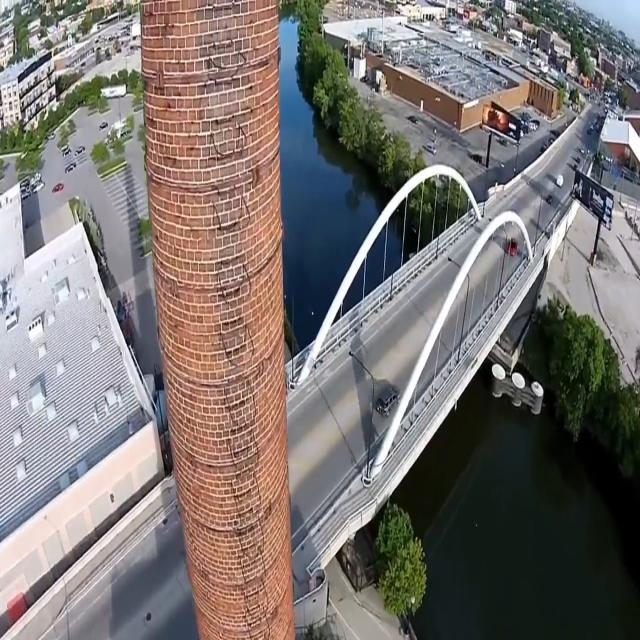Building: (140, 0, 296, 640), (291, 160, 534, 507), (0, 215, 141, 589)
Vehicle: (368, 369, 408, 424)
